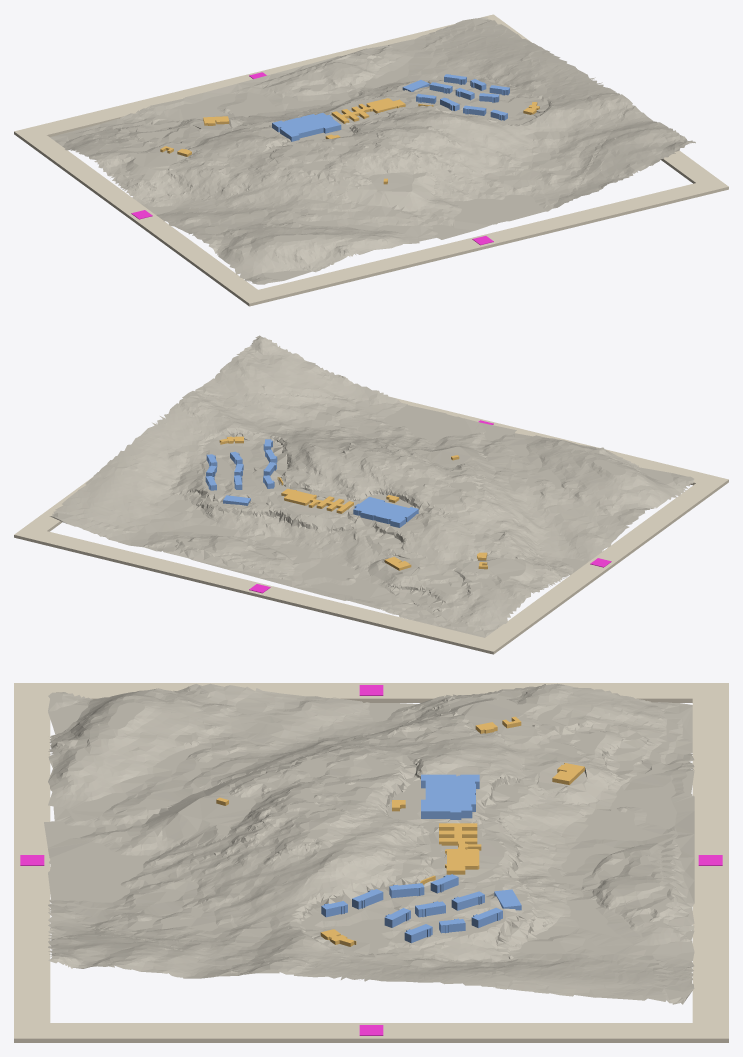
The model's file is site-scene.glb.
3 renders of one model, top to bottom at view 1: azimuth 30°, elevation 25°; view 2: azimuth 150°, elevation 25°; view 3: azimuth 270°, elevation 25°, orthographic. The views are drawn at different scales.
Visible parts, largest first — view 1: site_terrain, site_ledge, building_00, building_01; view 2: site_terrain, site_ledge, building_00, building_01; view 3: site_terrain, site_ledge, building_00, building_01.
Part boxes in pixels (box(x1,y1,x2,y2)): site_terrain: box(50, 17, 695, 284); site_ledge: box(14, 14, 728, 306); building_00: box(272, 113, 341, 141); building_01: box(331, 98, 405, 123); site_terrain: box(50, 335, 694, 637); site_ledge: box(14, 396, 728, 654); building_00: box(353, 497, 418, 527); building_01: box(281, 488, 353, 513); site_terrain: box(44, 683, 694, 1004); site_ledge: box(14, 683, 728, 1042); building_00: box(421, 774, 479, 819); building_01: box(439, 823, 481, 874).
Bounding box in the file's own units: 1.76 × 0.1524 × 1.5.
